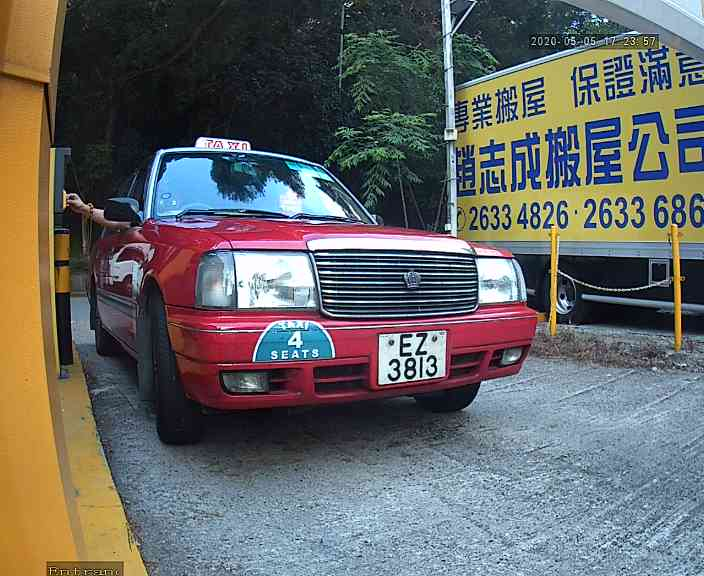taxi: (65, 122, 548, 443)
taxi_mark: (250, 310, 348, 378)
